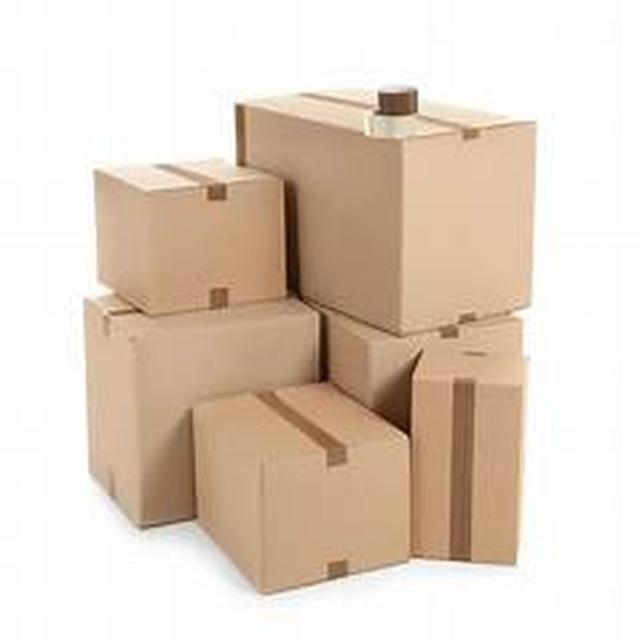box: (204, 57, 543, 326), (168, 358, 416, 608), (92, 122, 298, 313)
